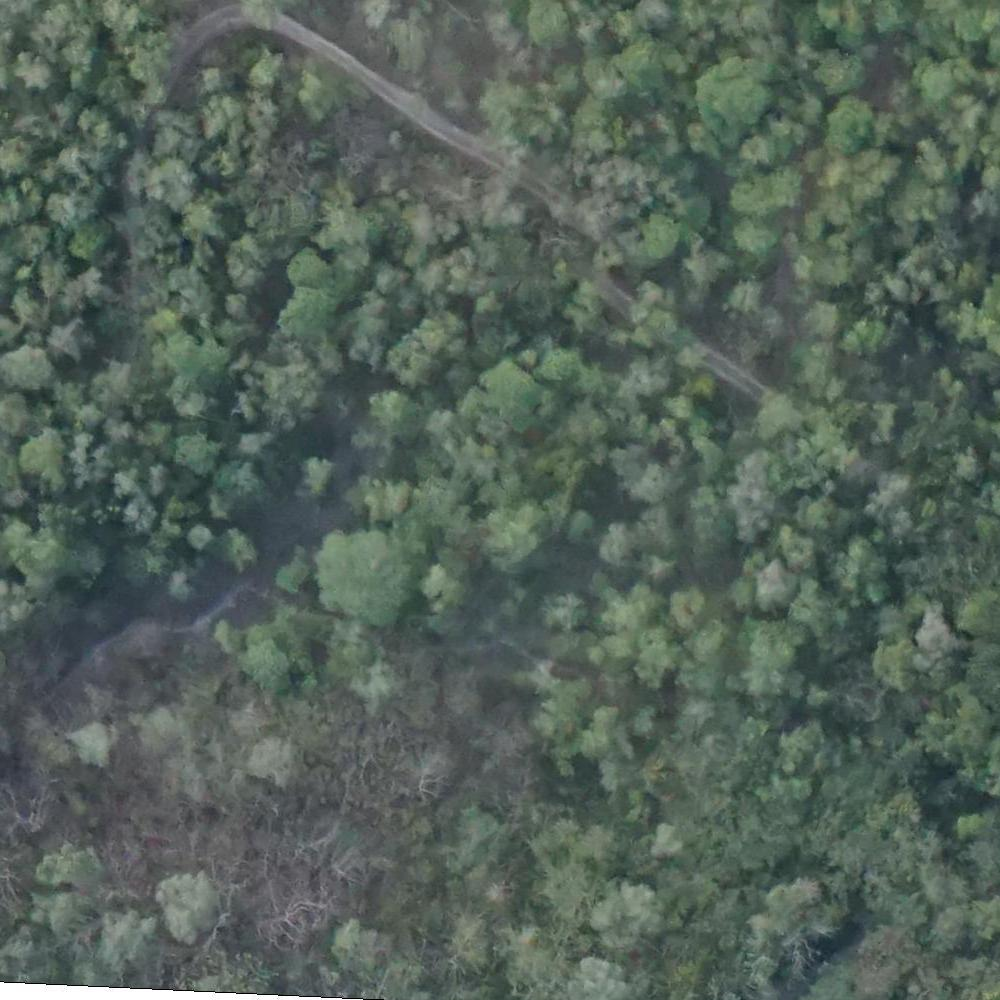tree: (312, 525, 412, 630), (755, 885, 829, 976), (693, 59, 775, 136), (738, 620, 811, 691), (593, 882, 662, 953), (241, 621, 307, 695), (157, 868, 225, 939), (478, 360, 541, 432), (482, 504, 555, 564), (257, 356, 324, 421), (167, 333, 226, 401), (616, 35, 677, 99), (833, 538, 890, 606), (247, 732, 312, 790), (321, 203, 379, 266), (413, 304, 473, 362), (633, 625, 685, 688), (15, 424, 70, 483), (736, 448, 794, 503), (356, 658, 406, 720), (1, 342, 62, 391), (526, 1, 582, 54), (583, 698, 634, 756), (366, 387, 422, 439), (102, 911, 152, 967), (328, 923, 387, 970), (810, 44, 862, 97), (453, 908, 500, 965), (279, 286, 333, 334), (296, 452, 344, 506), (749, 559, 799, 610), (804, 491, 854, 542), (144, 163, 198, 210), (869, 633, 915, 688), (389, 334, 437, 386), (282, 245, 334, 291), (681, 239, 728, 287), (208, 528, 258, 572), (759, 389, 807, 434), (46, 316, 91, 363), (169, 430, 215, 475), (541, 591, 594, 630), (822, 99, 873, 139), (624, 349, 670, 393), (198, 88, 242, 133), (360, 479, 409, 519), (66, 728, 116, 766), (731, 226, 774, 270), (728, 269, 766, 317), (297, 65, 337, 110), (67, 222, 108, 265), (274, 550, 314, 594), (647, 817, 690, 857), (15, 56, 47, 89), (5, 139, 36, 170)
